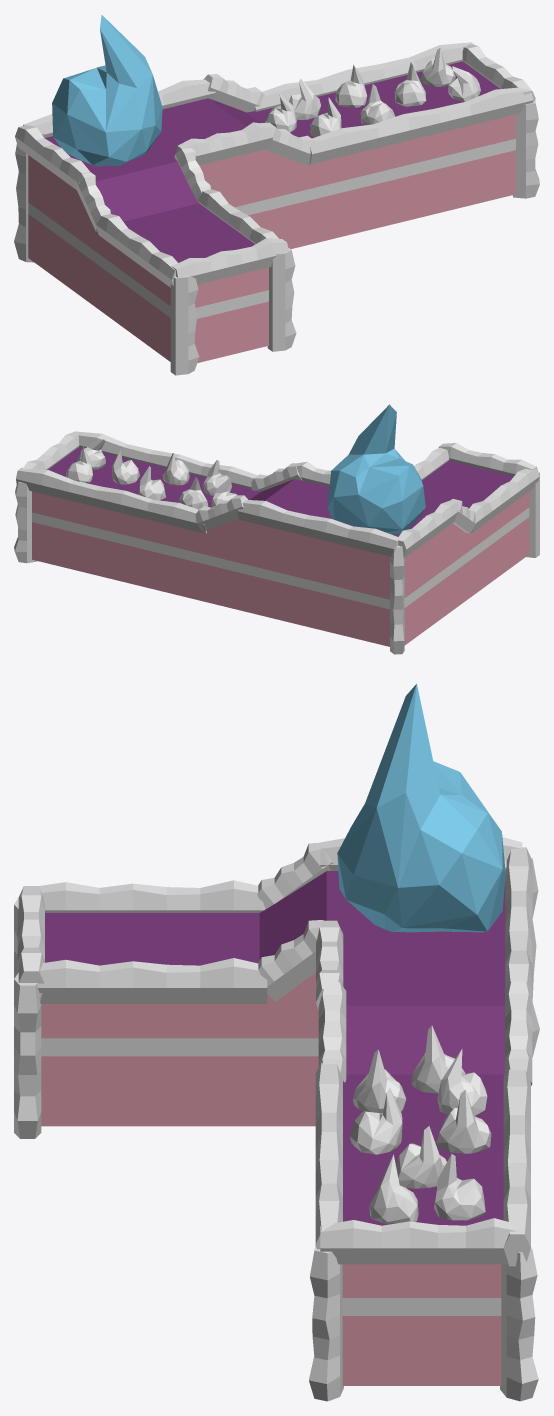
The model's file is Tower_Support_Slow.fbx.
3 renders of one model, top to bottom at view 1: azimuth 30°, elevation 25°; view 2: azimuth 150°, elevation 25°; view 3: azimuth 270°, elevation 25°, orthographic. The views are drawn at different scales.
Visible parts, largest first — view 1: Cube.028, Cube.103, Icosphere, Icosphere.003, Icosphere.002, Icosphere.004, Icosphere.005, Icosphere.001, Icosphere.006, Icosphere.008, Icosphere.007; view 2: Cube.028, Cube.103, Icosphere, Icosphere.003, Icosphere.006, Icosphere.002, Icosphere.004, Icosphere.001, Icosphere.007, Icosphere.005, Icosphere.008; view 3: Cube.028, Cube.103, Icosphere, Icosphere.004, Icosphere.006, Icosphere.002, Icosphere.003, Icosphere.005, Icosphere.001, Icosphere.007, Icosphere.008.
Part boxes in pixels (x1,y1,x2,y2): Cube.028: [28, 61, 515, 362]; Cube.103: [14, 42, 539, 375]; Icosphere: [52, 15, 162, 166]; Icosphere.003: [394, 62, 426, 106]; Icosphere.002: [335, 64, 366, 107]; Icosphere.004: [420, 48, 455, 86]; Icosphere.005: [448, 66, 480, 101]; Icosphere.001: [289, 78, 320, 119]; Icosphere.006: [360, 84, 395, 125]; Icosphere.008: [265, 94, 296, 132]; Icosphere.007: [310, 97, 341, 137]; Cube.028: [32, 447, 529, 646]; Cube.103: [14, 431, 539, 654]; Icosphere: [327, 404, 425, 534]; Icosphere.003: [111, 450, 139, 484]; Icosphere.006: [162, 453, 189, 485]; Icosphere.002: [138, 466, 165, 500]; Icosphere.004: [66, 446, 92, 482]; Icosphere.001: [179, 477, 208, 509]; Icosphere.007: [203, 460, 231, 495]; Icosphere.005: [77, 439, 105, 469]; Icosphere.008: [210, 477, 236, 507]; Cube.028: [41, 871, 505, 1385]; Cube.103: [14, 837, 539, 1401]; Icosphere: [337, 683, 505, 932]; Icosphere.004: [434, 1154, 485, 1220]; Icosphere.006: [349, 1087, 402, 1154]; Icosphere.002: [436, 1090, 491, 1153]; Icosphere.003: [396, 1126, 446, 1188]; Icosphere.005: [369, 1154, 418, 1224]; Icosphere.001: [437, 1049, 487, 1115]; Icosphere.007: [353, 1049, 406, 1113]; Icosphere.008: [411, 1025, 465, 1093].
Size of the model in its own units: 277 by 147 by 173.
